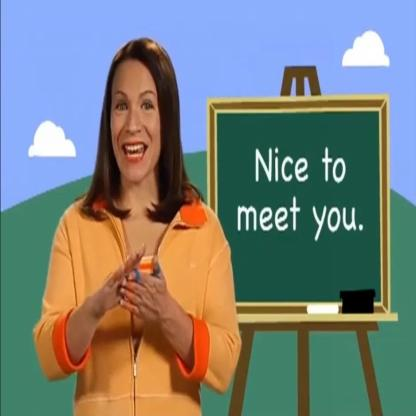NiceToMeetYou: (76, 238, 177, 335)
